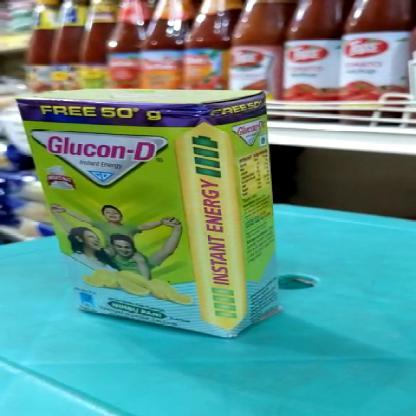Glucon D Nimbu Pani 1-KG: (16, 102, 233, 333)
